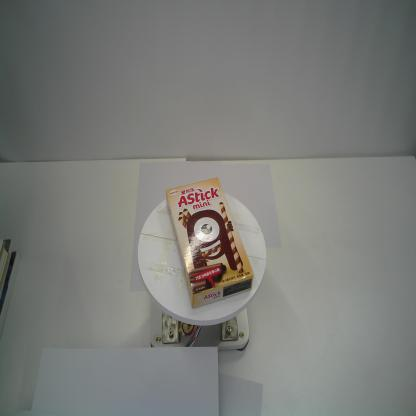Dessert: (165, 176, 255, 312)
